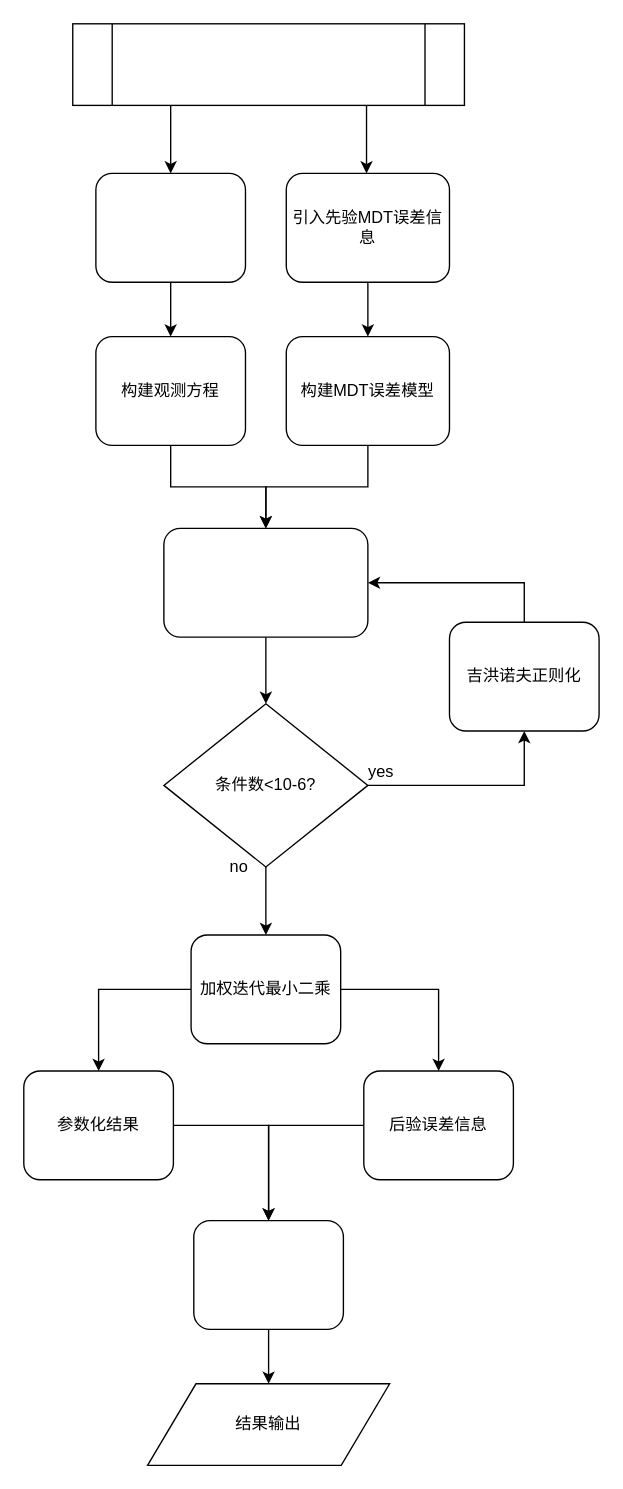
Some shapes in this 623 by 1489 pixel diagram are drawn without their labels. Each missing label, with the centre of its shape:
16参拉格朗日基函数: the point at 170,227
MDT数值模型: the point at 267,63
内外符合精度评估: the point at 267,1274
病态性检查: the point at 265,582
